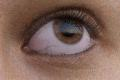eye: (52, 16, 84, 44)
